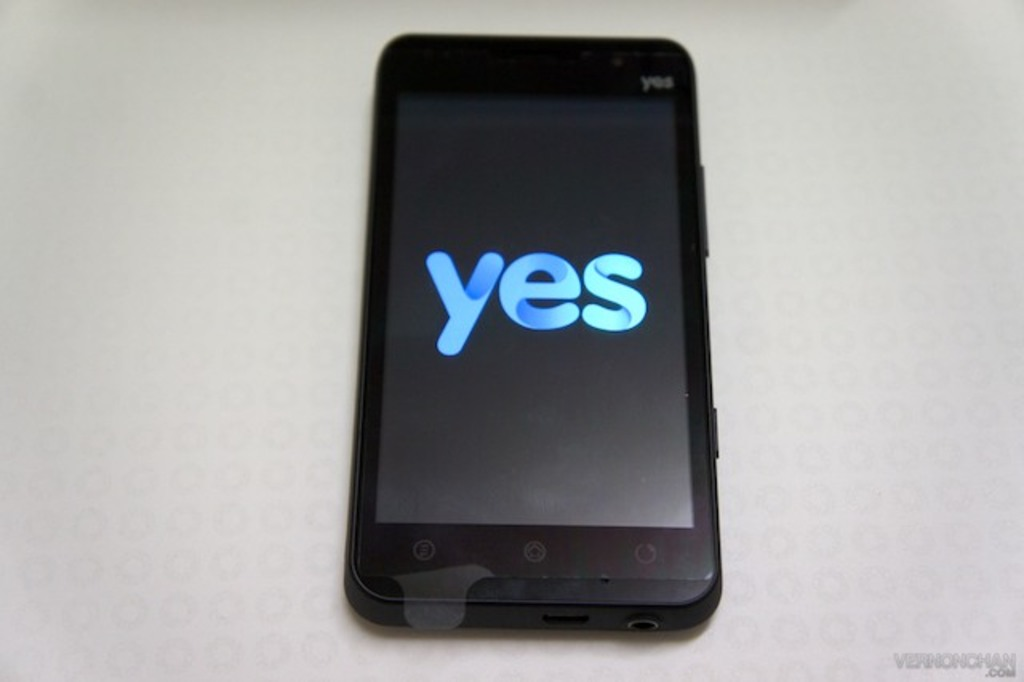mobile phone: (340, 32, 724, 630)
